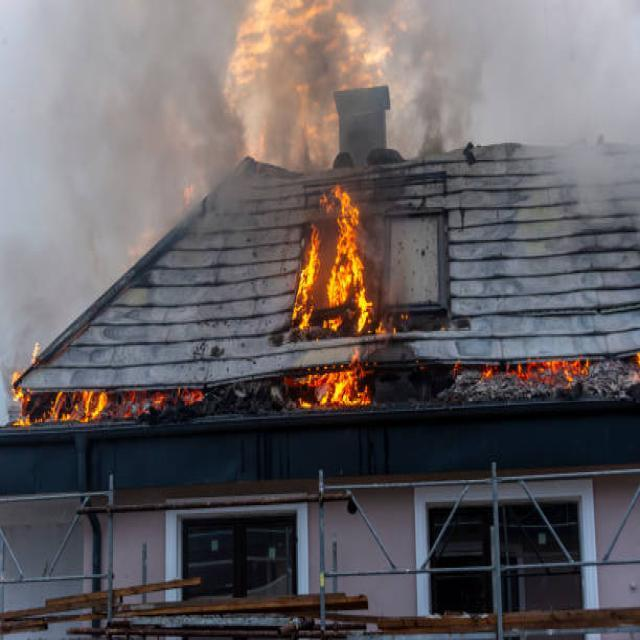Fire: (34, 358, 636, 406), (288, 186, 380, 367)
Smoke: (22, 84, 213, 288), (366, 0, 533, 214)
